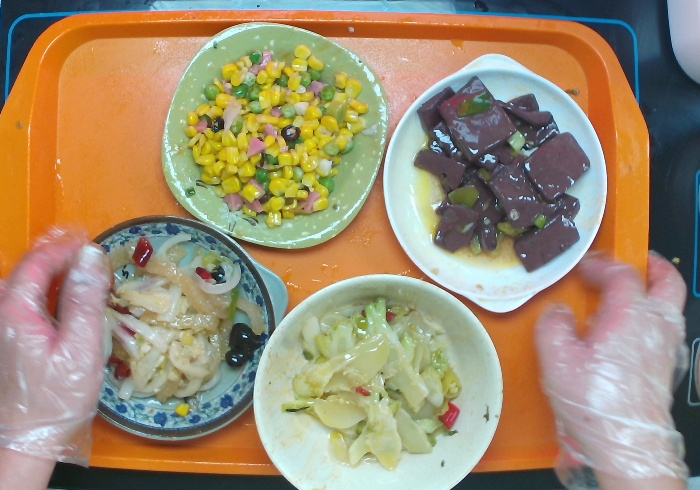NLDX-Bai_Se_Shuang_Er_Die: (382, 59, 606, 313)
NLDX-Bai_Se_Yuan_Wan: (244, 268, 518, 490)
NLDX-Lv_Hua_Fang_Die: (158, 16, 390, 254)
NLDX-Qing_Hua_Shuang_Er_Die: (58, 213, 290, 438)
